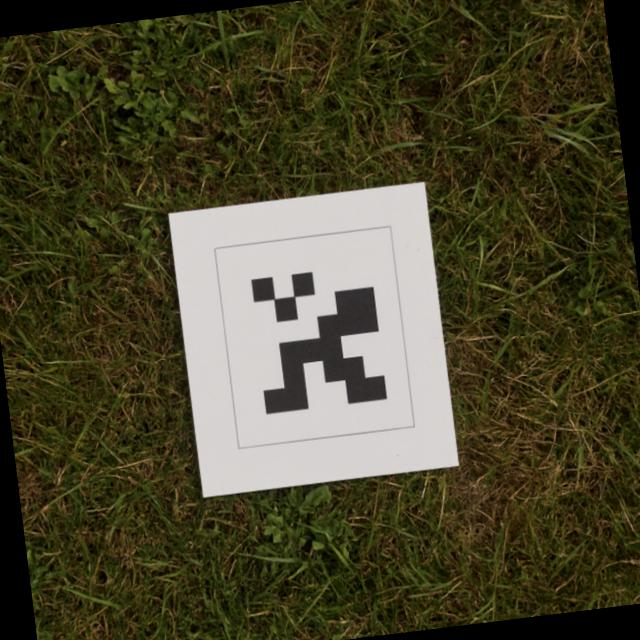marker: (165, 177, 468, 506)
